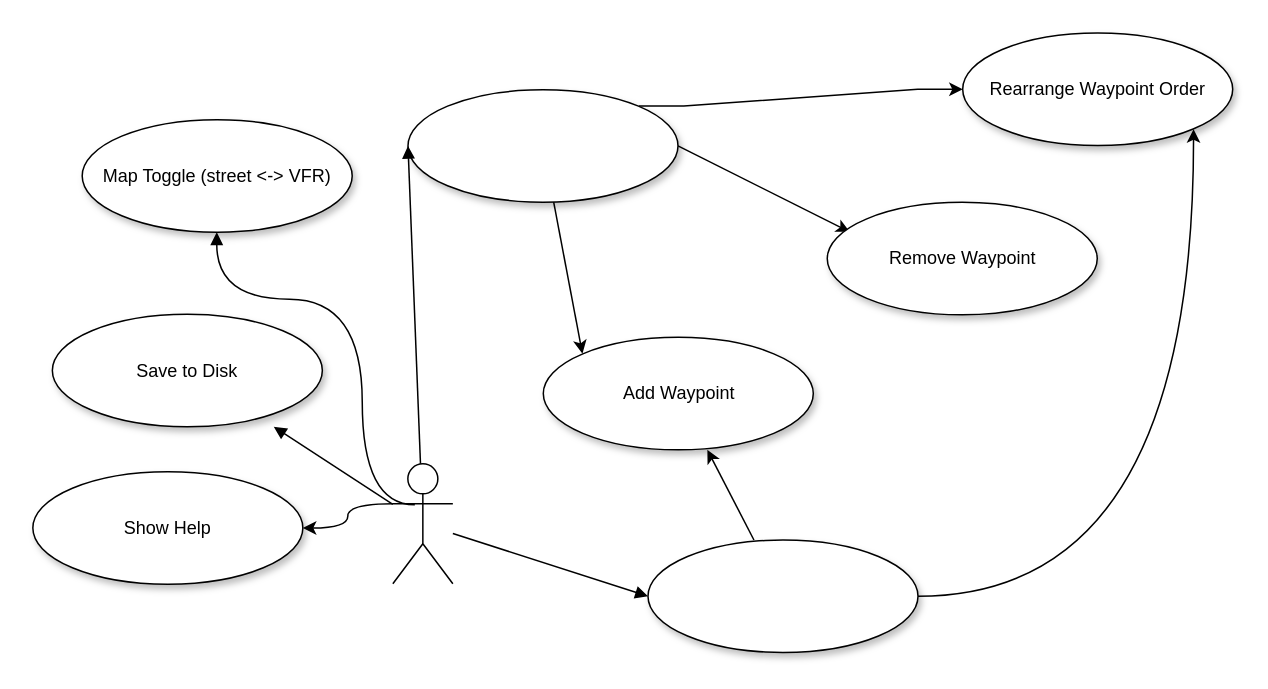
Image size: 1268x689. Some labels were removed from this diagram. The centre of each missing label's shape, as x and y in pixels:
Edit Existing Flight Plan: the point at 543,147
Open New Flight Plan: the point at 783,597
User: the point at 422,523
